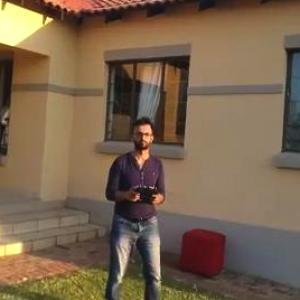follow: (107, 115, 186, 299)
